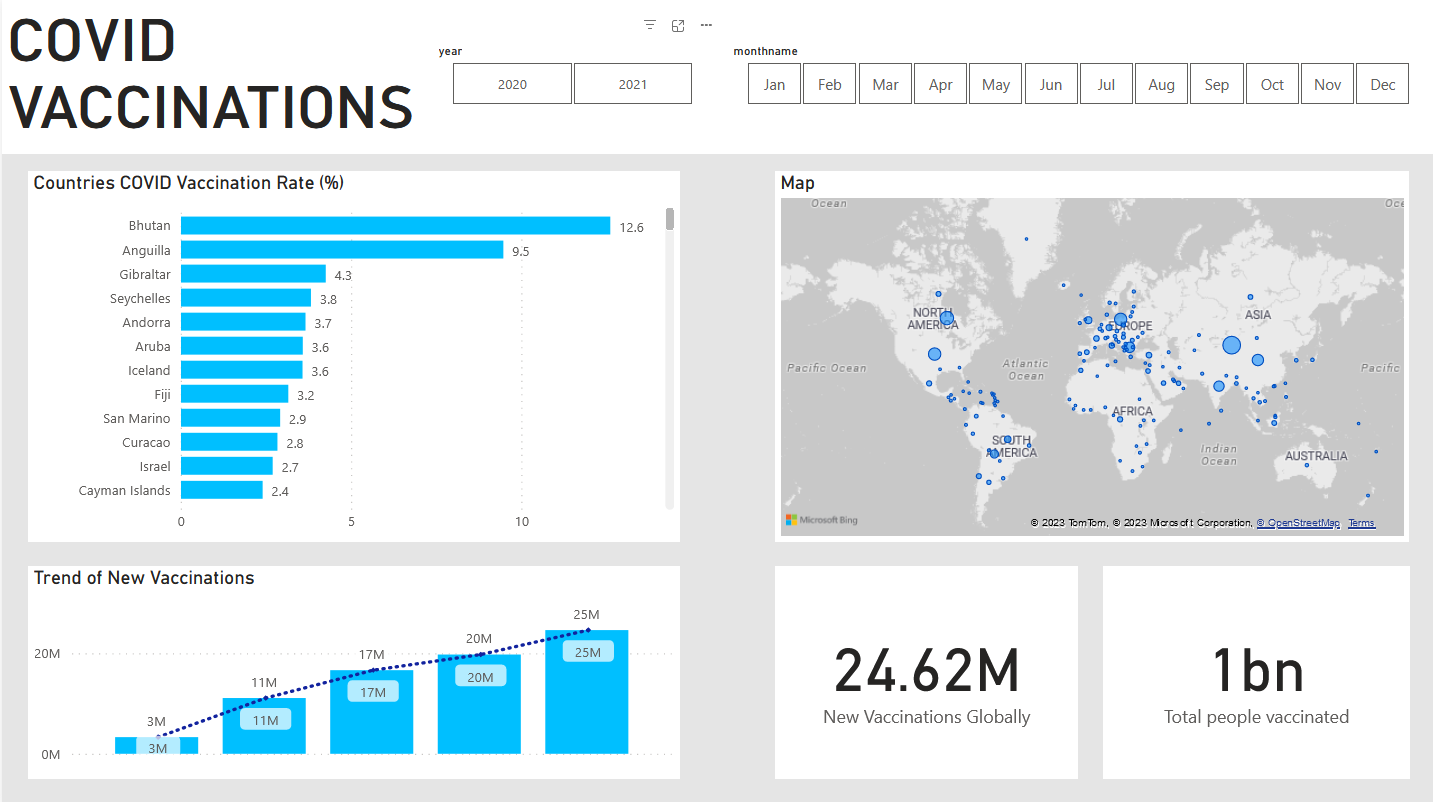

What the dashboard file says about the page in this screenshot:
{"tool":"powerbi","page":{"name":"COVID Vaccinations","canvas":[1280,720],"ordinal":1},"visuals":[{"type":"textbox","box":[0,0,1280,137.3],"z":0},{"type":"card","title":"Global Cases of COVID","fields":{"Values":["Max(covid_vaccinations_1.people_vaccinated)"]},"box":[982.1,504.9,273.5,190.4],"z":1000},{"type":"slicer","fields":{"Values":["covid_vaccinations_1.monthname"]},"box":[640,33.2,640,66.4],"z":3000},{"type":"slicer","fields":{"Values":["covid_vaccinations_1.year"]},"box":[376.5,33.2,263.5,66.4],"z":4000},{"type":"barChart","title":"Countries COVID Vaccination Rate (%)","fields":{"Category":["covid_vaccinations_1.location"],"Y":["Max(covid_vaccinations_1.vaccination_rate)"]},"box":[23.3,152.8,581.3,331.1],"z":6000},{"type":"lineStackedColumnComboChart","title":"Trend of New Vaccinations","fields":{"Y":["Max(covid_vaccinations_1.new_vaccinations)"],"Category":["covid_vaccinations_1.date.Variation.Date Hierarchy.Year","covid_vaccinations_1.date.Variation.Date Hierarchy.Quarter","covid_vaccinations_1.date.Variation.Date Hierarchy.Month"],"Y2":["Max(covid_vaccinations_1.new_vaccinations)"]},"box":[23.3,504.9,581.3,190.4],"z":9000},{"type":"map","title":"Map","fields":{"Category":["covid_vaccinations_1.location"],"Size":["Max(covid_vaccinations_1.people_vaccinated)"]},"box":[689.8,152.8,565.8,331.1],"z":11000},{"type":"card","fields":{"Values":["Max(covid_vaccinations_1.new_vaccinations)"]},"box":[689.8,504.9,270.2,190.4],"z":12000}]}

Visuals, with their boxes in screenshot pixels (x1, y1, x2, y2), scaled from the page's 1280x720 canvas onto the 1433x802 screenshot:
textbox: bbox(0, 0, 1432, 153)
"Global Cases of COVID" card: bbox(1099, 562, 1406, 774)
slicer - covid_vaccinations_1.monthname: bbox(716, 37, 1432, 111)
slicer - covid_vaccinations_1.year: bbox(422, 37, 716, 111)
"Countries COVID Vaccination Rate (%)" barChart: bbox(26, 170, 677, 539)
"Trend of New Vaccinations" lineStackedColumnComboChart: bbox(26, 562, 677, 774)
"Map" map: bbox(772, 170, 1406, 539)
card - Max(covid_vaccinations_1.new_vaccinations): bbox(772, 562, 1075, 774)
